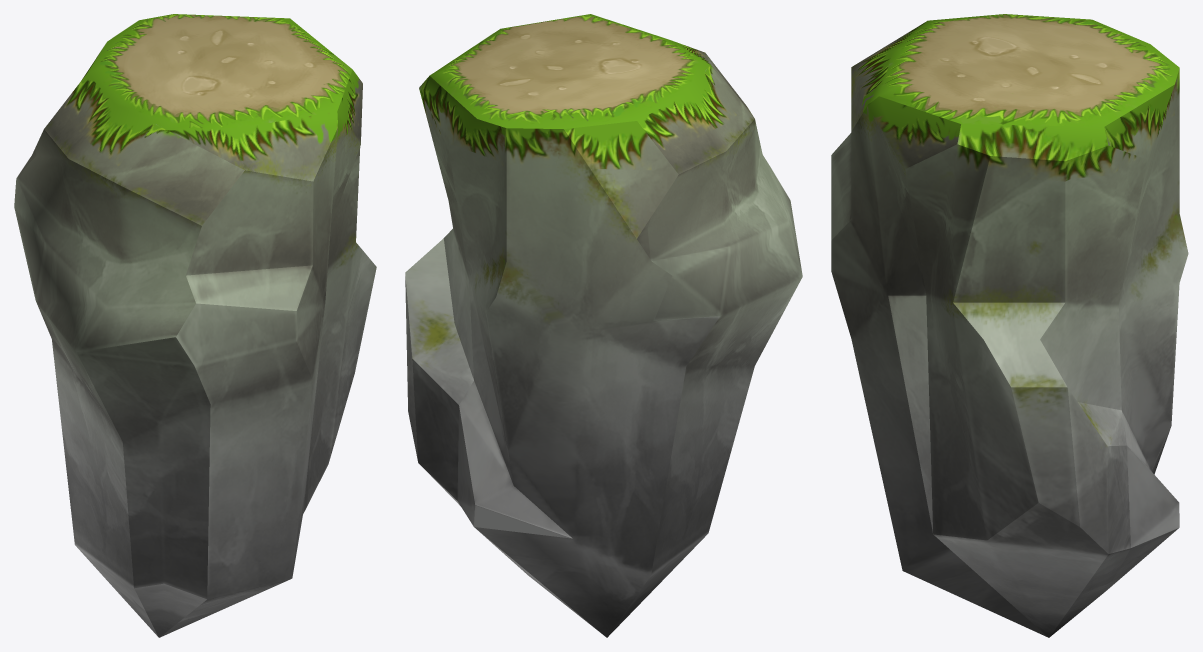
The model's file is Stepstone_type_0.FBX.
The picture shows the model from 3 angles, left to right: view 1: azimuth 30°, elevation 25°; view 2: azimuth 150°, elevation 25°; view 3: azimuth 270°, elevation 25°; orthographic projection. The views are drawn at different scales.
Parts seen in each view (by area): view 1: StepStone_Type_0; view 2: StepStone_Type_0; view 3: StepStone_Type_0.
Boxes of the visible parts, x1=… form: StepStone_Type_0: x1=14, y1=14, x2=376, y2=637; StepStone_Type_0: x1=405, y1=14, x2=802, y2=637; StepStone_Type_0: x1=831, y1=14, x2=1188, y2=637.
Size of the model in its own units: 5.57 by 8.84 by 4.78.
Materials: 1 (1 with a texture image).
